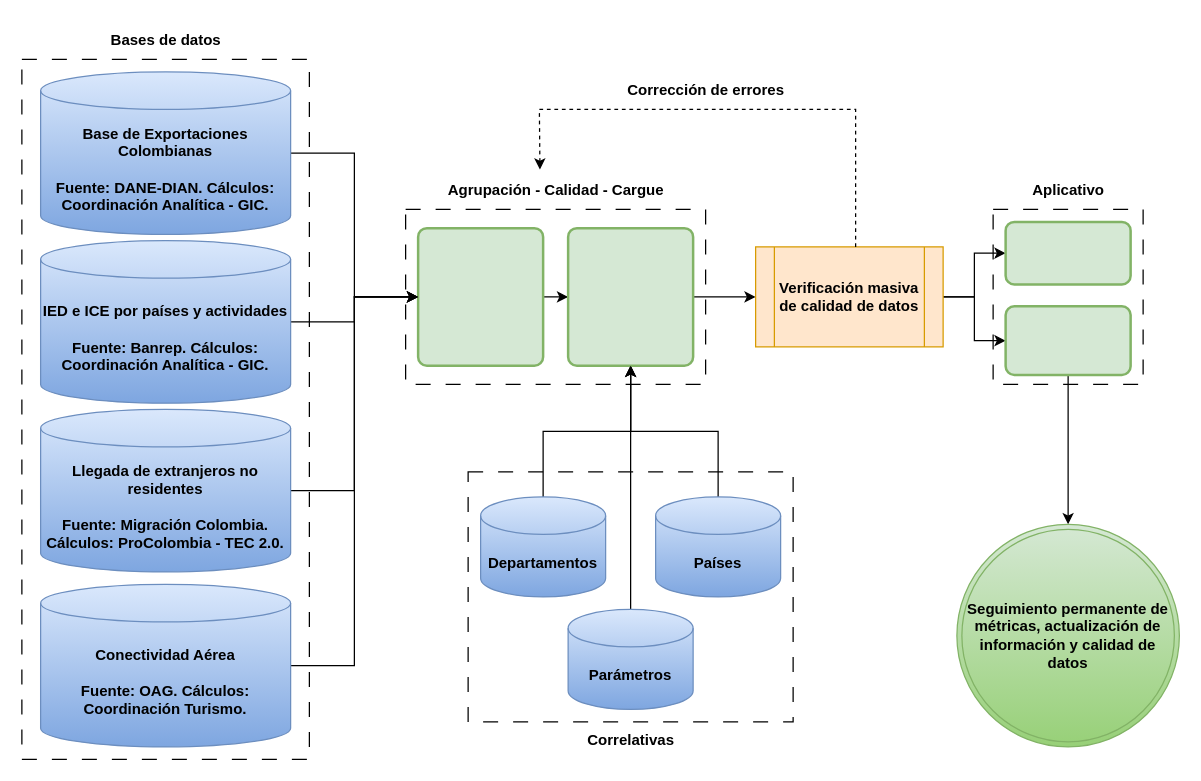
Image size: 1201x781. Some labels were removed from this diagram. The shapes that lost their labels are listed below. From the top down, each one's centre as x and y in pixels, then its label:
At point 1067,252: "Aplicativo en Streamlit".
At point 480,296: "Agrupación Controles de calidad".
At point 630,296: "Cargue de datos a Snowflake".
At point 1067,340: "Despliegue en CodeSandbox".
